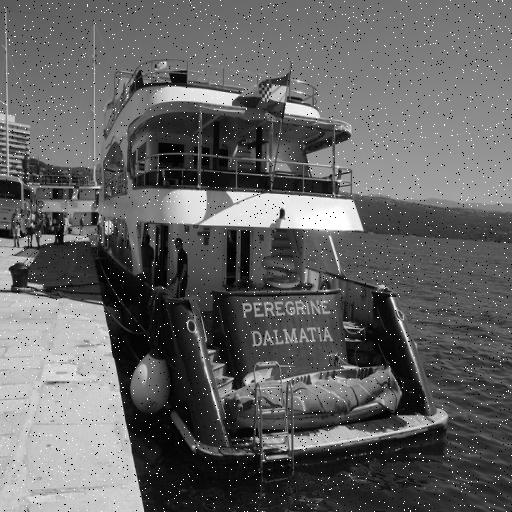cruises: (93, 59, 452, 491)
